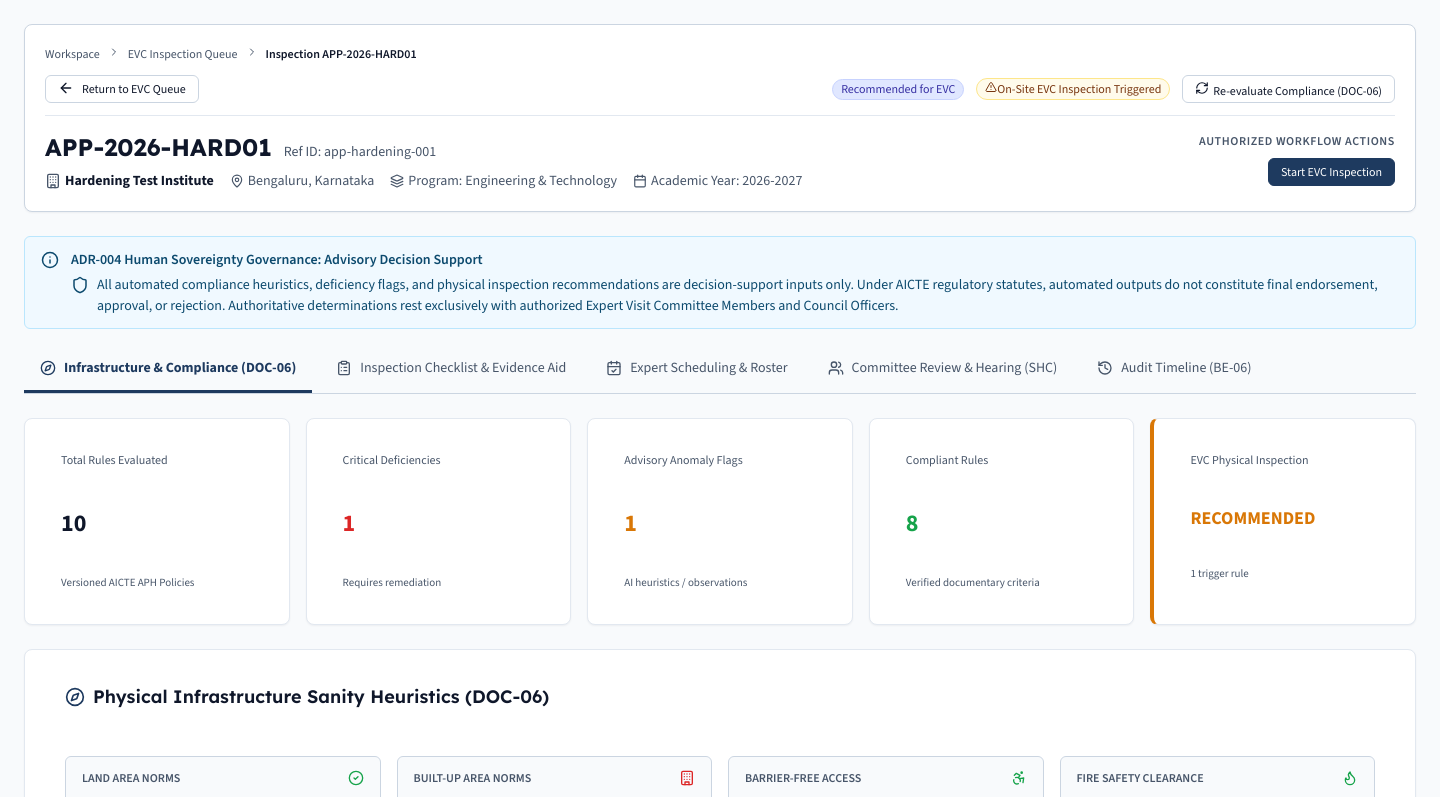
Scenario: Frontend Integration Hardening & Regression Suite › EvcCaseDetailPage Hardening › displays error banner when compliance re-evaluation fails
Check: the text "Hardening Test Institute" is shown, box [65, 170, 214, 191]
Click Re-evaluate compliance button
Click the button "Re-evaluate Compliance (DOC-06)". click: (1289, 89)
box: [1182, 75, 1395, 103]
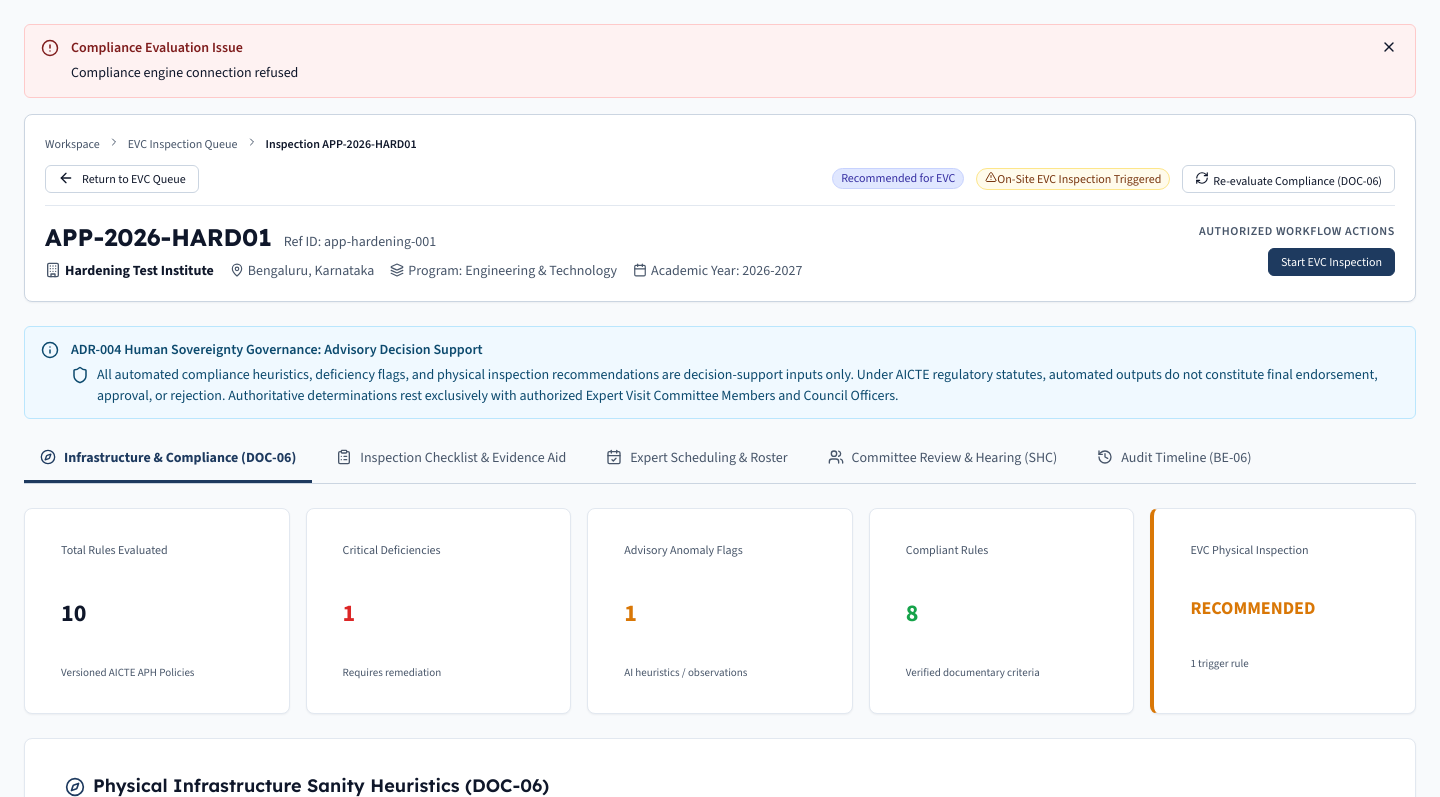
Check: the text "Compliance Evaluation Issue" is shown, box [71, 38, 243, 57]
Check: the text "Compliance engine connection refused" is shown, box [71, 63, 298, 82]
